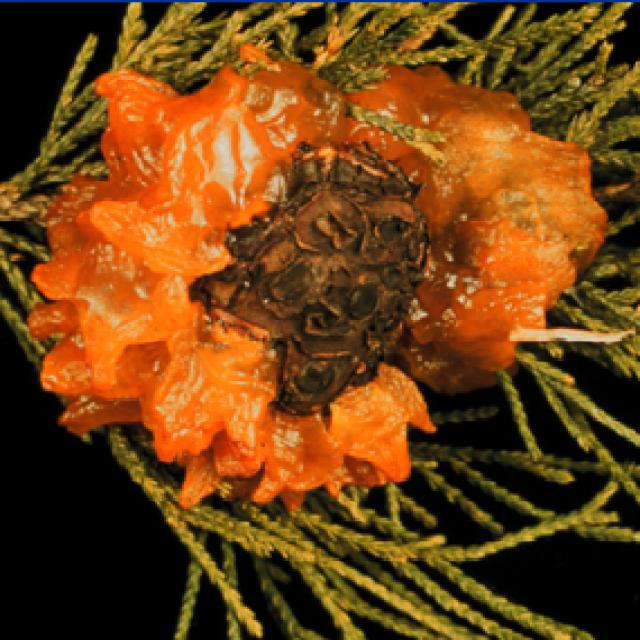Gymnosporangium_Rusts: (25, 42, 615, 511)
